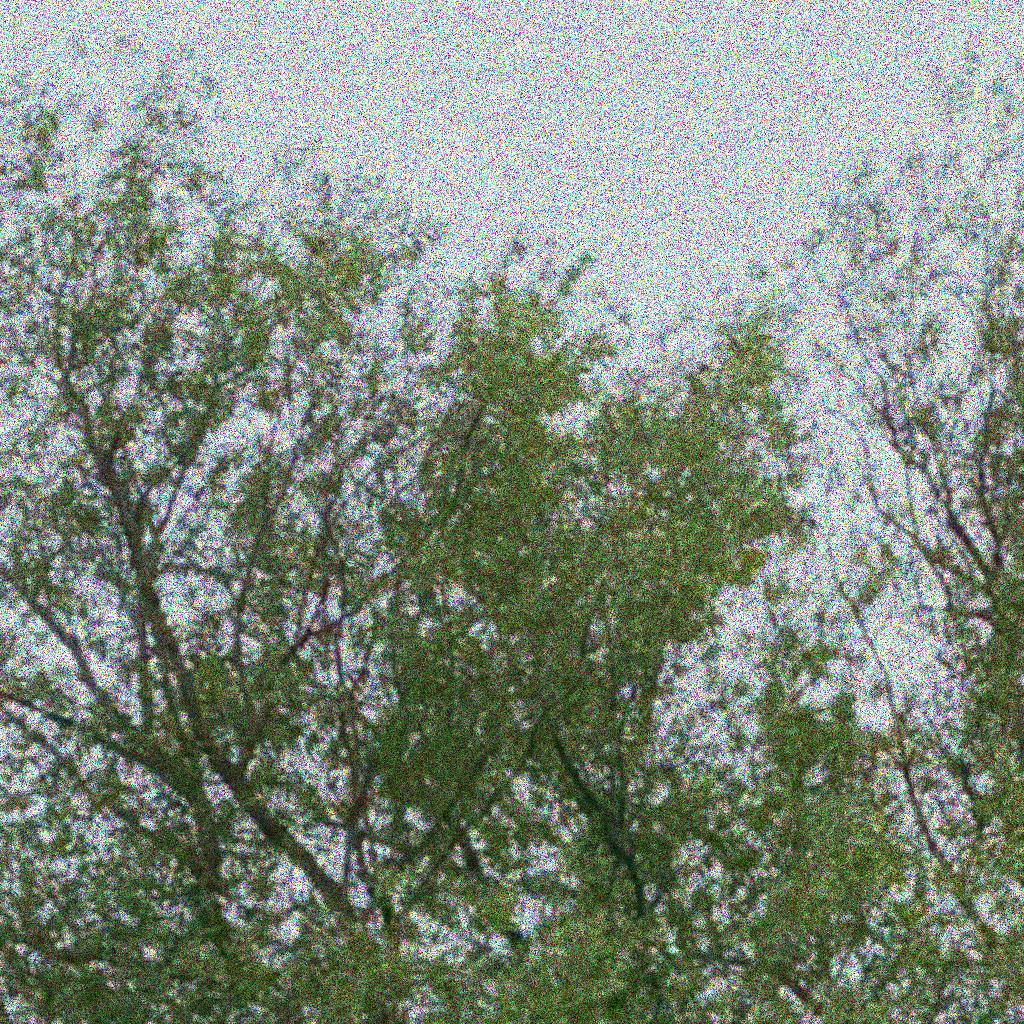tree: (1, 49, 1023, 1023)
